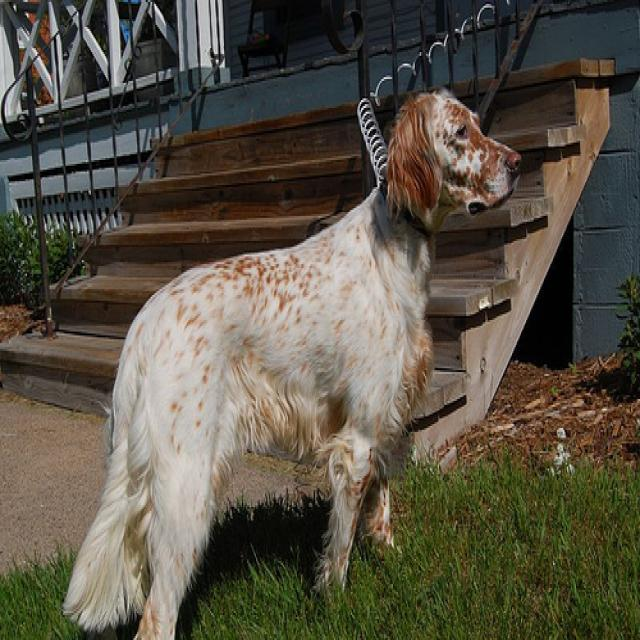dog-english_setter: (55, 67, 526, 636)
